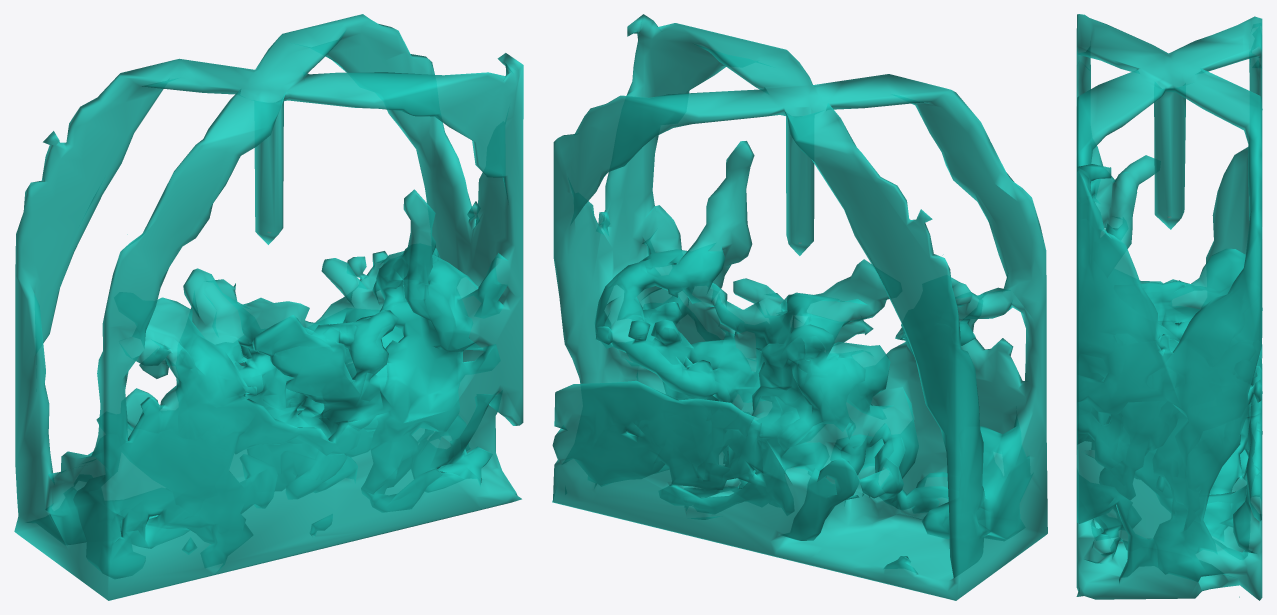
3 views of the same model, side by side, from view 1: azimuth 30°, elevation 25°; view 2: azimuth 150°, elevation 25°; view 3: azimuth 270°, elevation 25° (orthographic). The views are drawn at different scales.
Parts seen in each view (by area): view 1: Liquid_Domain; view 2: Liquid_Domain; view 3: Liquid_Domain.
Boxes of the visible parts, x1,y1,x2,y2 form: Liquid_Domain: [14, 14, 523, 600]; Liquid_Domain: [552, 14, 1047, 600]; Liquid_Domain: [1076, 14, 1262, 600].
Bounding box in the file's own units: 888 × 884 × 345.
